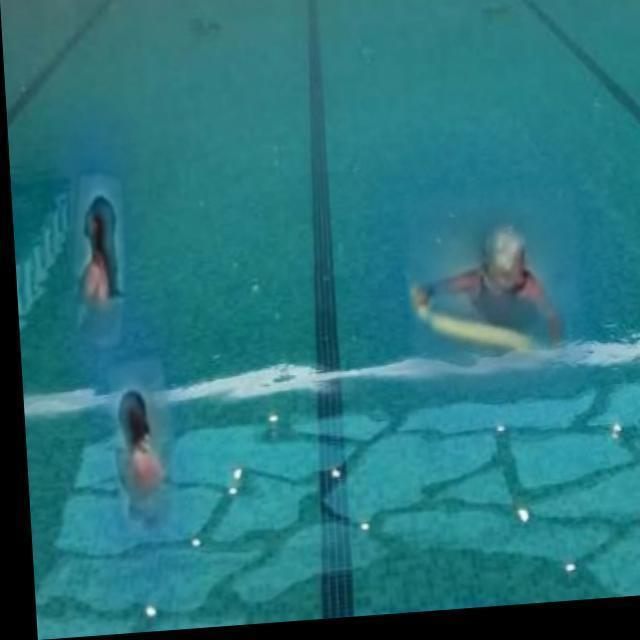swimming: (397, 216, 569, 355), (101, 390, 199, 529), (67, 193, 138, 308)
